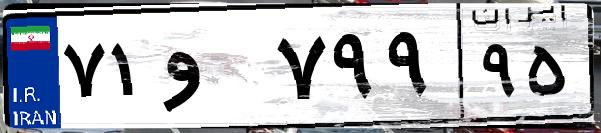1: (110, 28, 158, 98)
5: (525, 38, 570, 115)
7: (270, 28, 330, 110), (57, 26, 110, 100)
9: (385, 28, 445, 110), (330, 28, 385, 110), (475, 38, 525, 113)
و: (158, 20, 270, 120)
